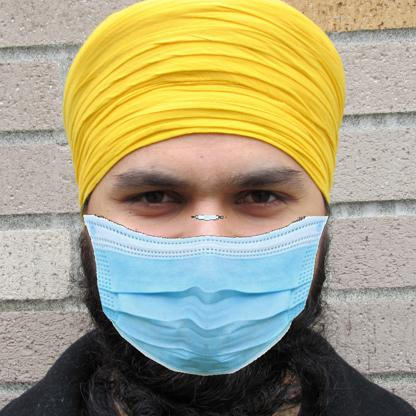mask: (81, 211, 330, 376)
